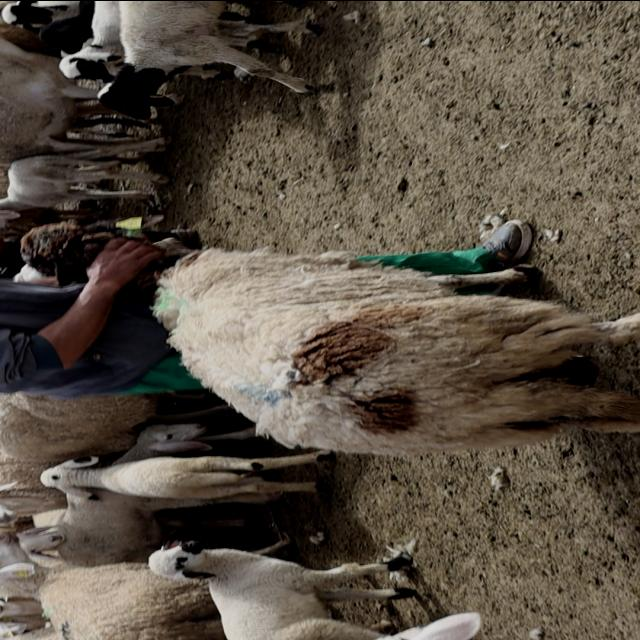Score_1: (130, 245, 639, 455)
